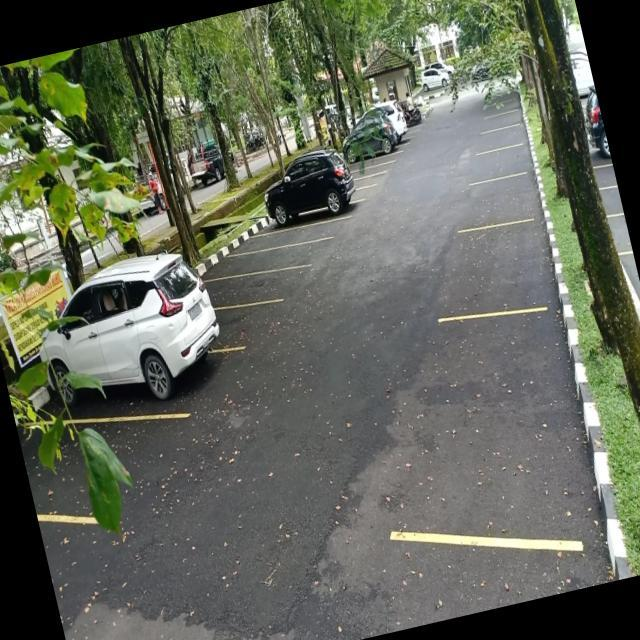empty: (410, 291, 600, 563), (448, 213, 555, 329), (458, 166, 540, 235), (208, 260, 302, 315), (238, 216, 334, 256), (218, 240, 300, 284)
occupied: (30, 278, 249, 439), (260, 161, 362, 236)
